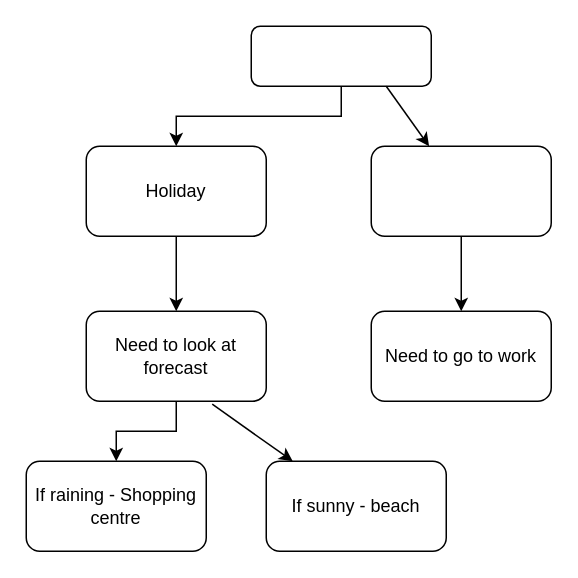
The diagram is 578 pixels wide and 578 high, and some of its shapes have lost their labels. The box of each missing label's shape, as (x1, y1, x2, y2) in pixels:
Holiday or working day?: (250, 25, 431, 86)
Working day: (370, 145, 551, 236)
